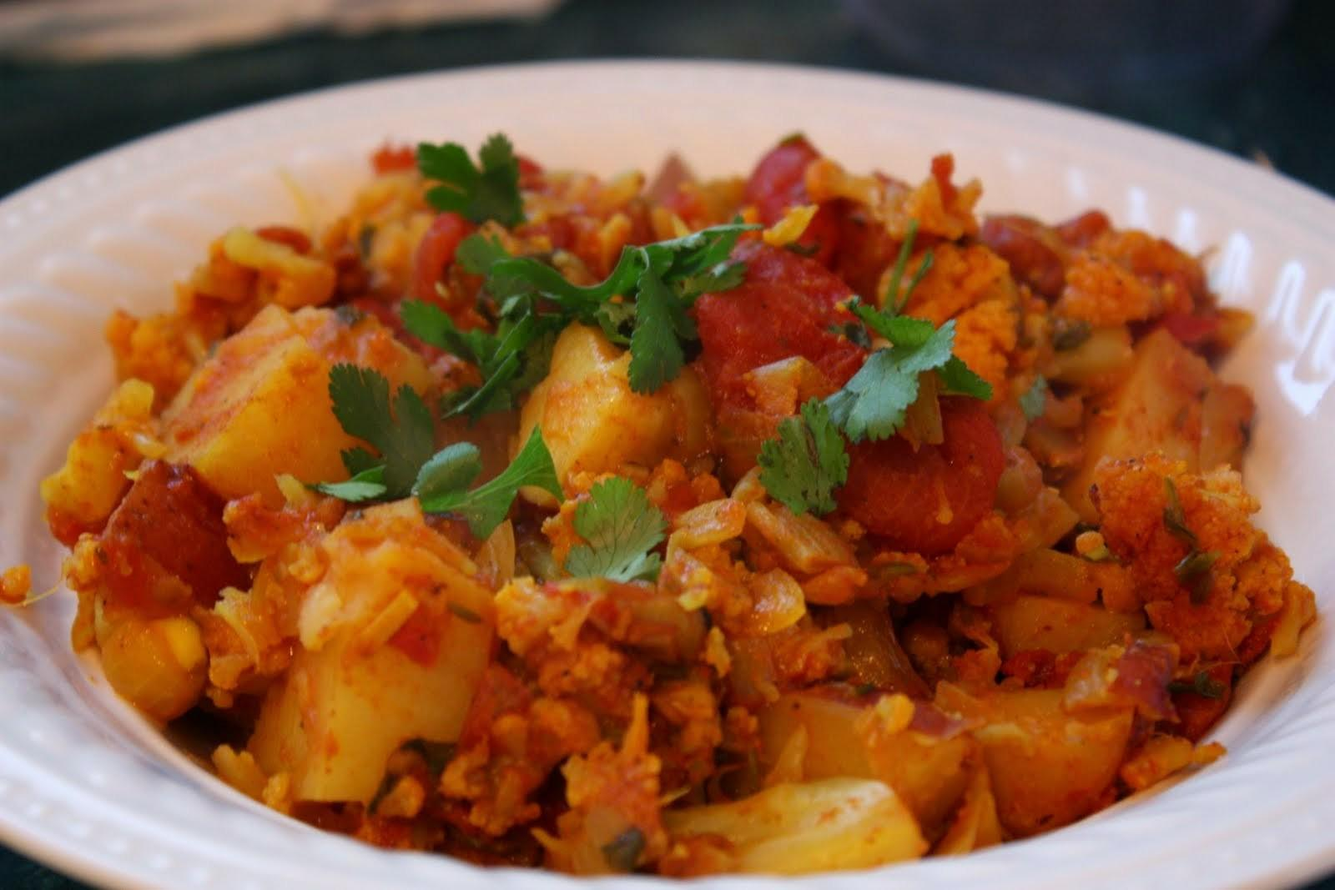AlooGobi: (41, 131, 1316, 877)
